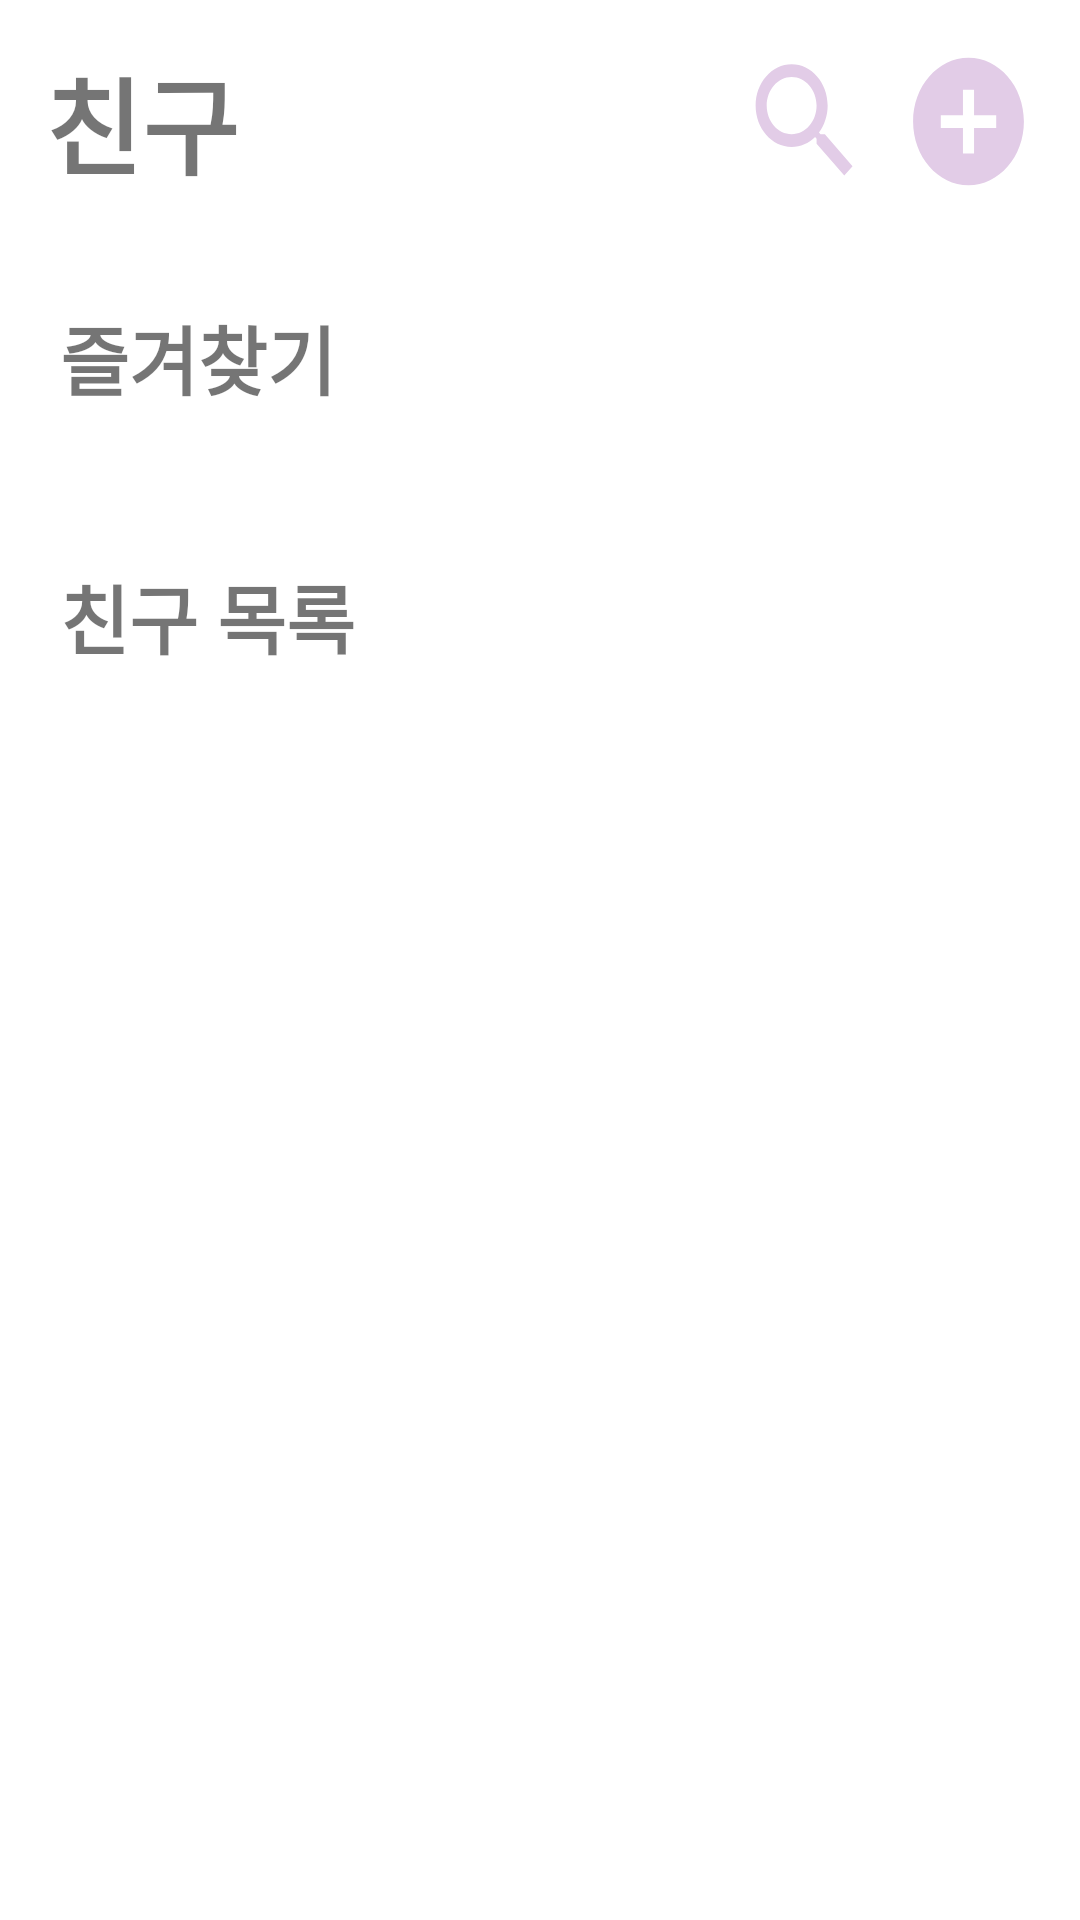

Named icons in this screenshot (1080*1920) and their bounding boxes, [left=x1, top=y1, right=x2, bottom=y2]:
add circle: [left=913, top=58, right=1024, bottom=185]
search: [left=756, top=64, right=852, bottom=175]
